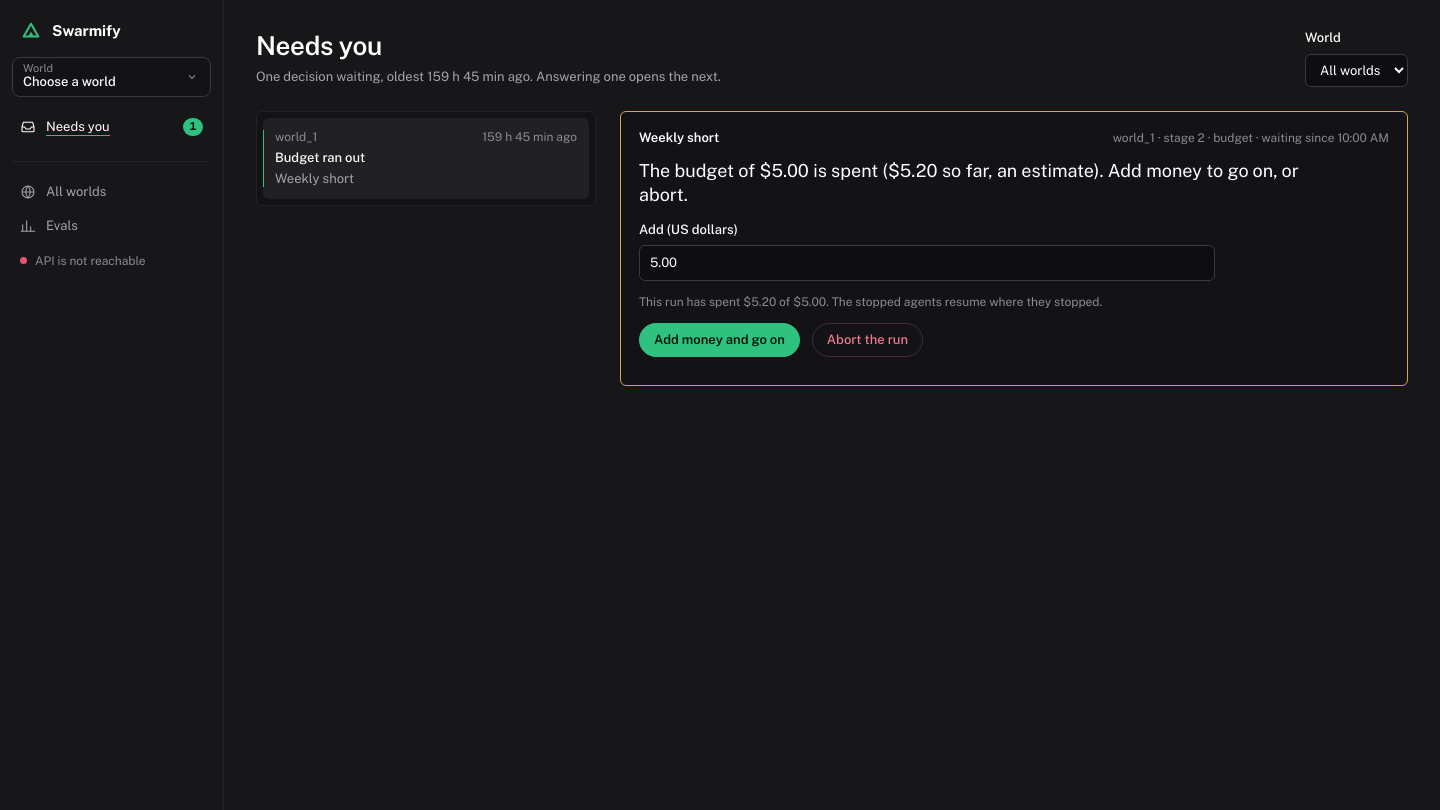
Test: a refused budget is shown as an alert
Replace the text in the number field labelled "Add (US dollars)" with "0.1" at (927, 263), box [639, 245, 1215, 281]
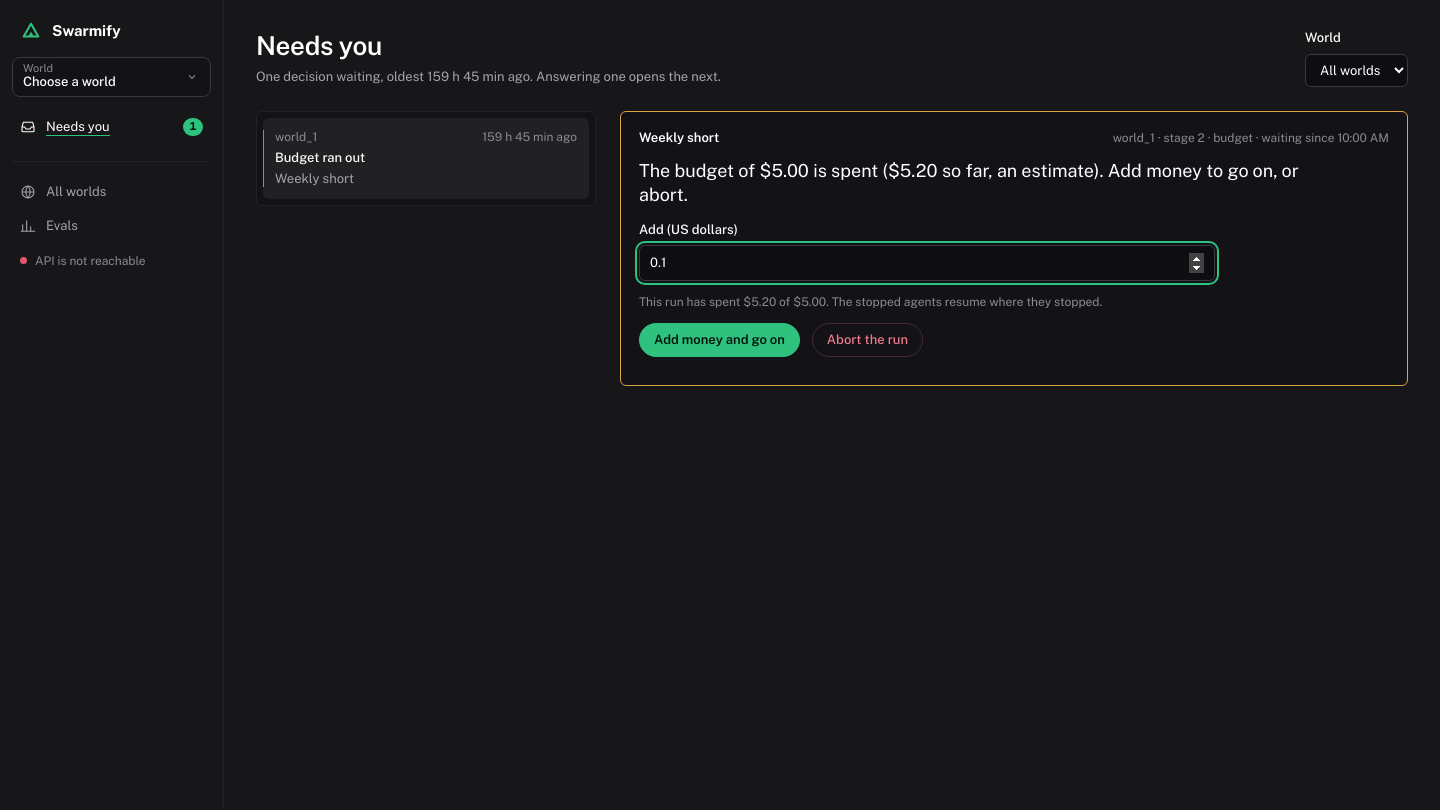
Click the button "Add money and go on" at (719, 340), box [639, 323, 800, 357]
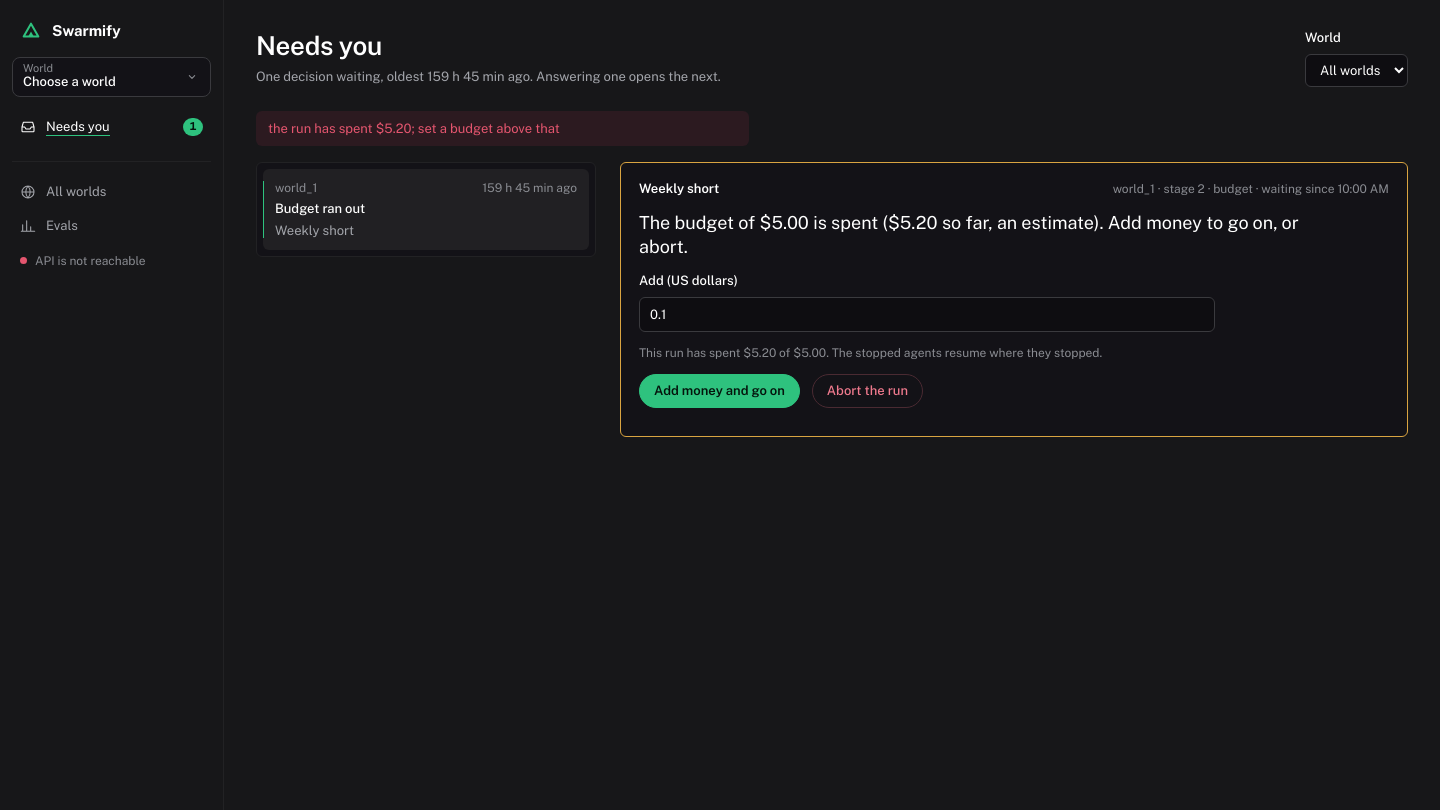
Expected: the message reads "the run has spent $5.20; set a budget above that", [268, 120, 560, 136]
